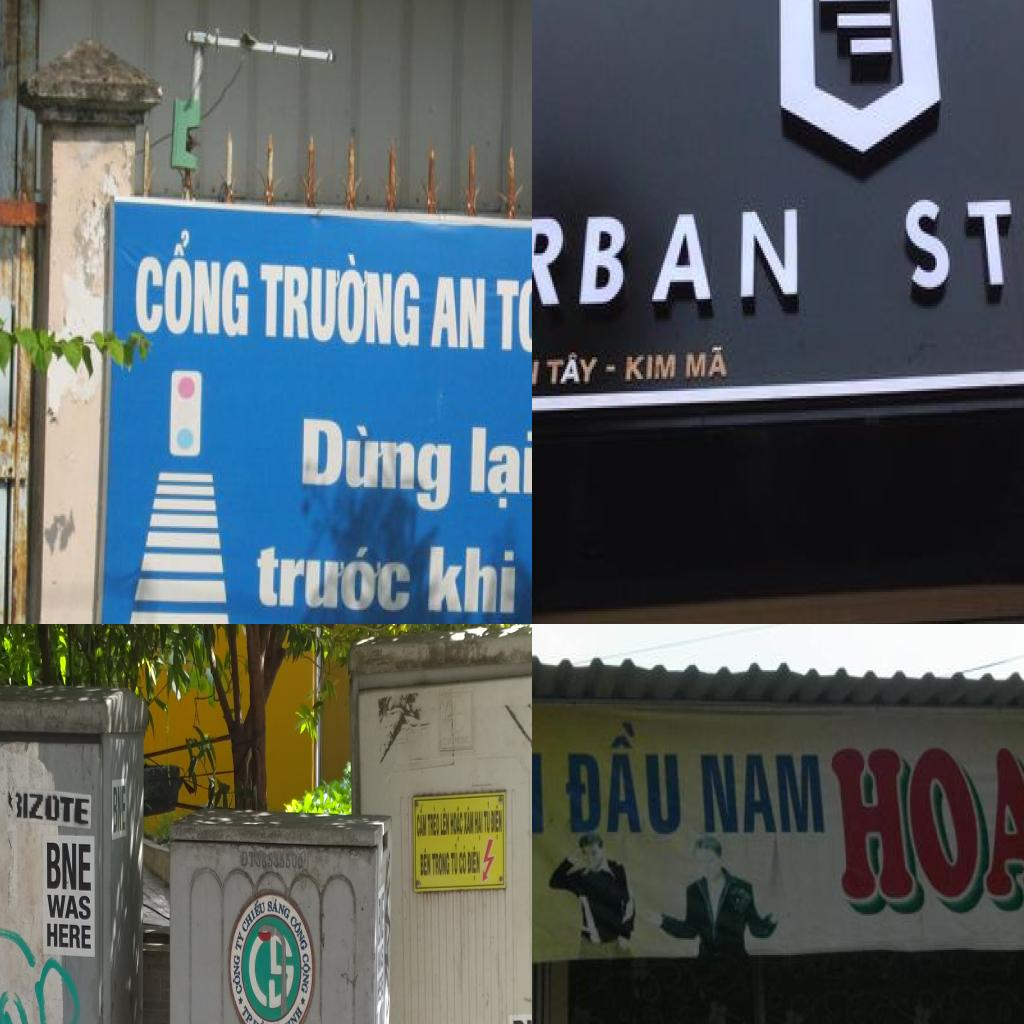text: (532, 202, 806, 335), (772, 0, 957, 192), (826, 745, 1024, 902), (292, 407, 455, 521), (256, 241, 423, 352), (899, 185, 1024, 315), (249, 531, 416, 622), (135, 219, 255, 345), (561, 721, 685, 837), (699, 752, 827, 835), (426, 528, 526, 622), (462, 413, 532, 514), (428, 264, 489, 356), (25, 955, 94, 1024), (492, 261, 532, 359), (543, 352, 625, 389), (22, 790, 91, 825), (44, 841, 92, 891), (683, 343, 735, 381), (625, 352, 679, 386), (43, 892, 93, 918), (46, 921, 95, 947), (256, 850, 306, 874), (238, 896, 266, 936), (288, 910, 311, 954), (112, 783, 129, 835), (268, 894, 294, 923), (467, 843, 483, 882), (492, 804, 506, 848), (282, 999, 306, 1024), (232, 950, 245, 996), (299, 956, 311, 1002), (433, 850, 450, 879), (414, 804, 428, 837), (450, 808, 464, 839), (237, 1001, 255, 1024), (418, 848, 432, 876), (427, 806, 440, 836), (449, 842, 459, 876), (458, 842, 468, 876), (464, 806, 475, 836), (234, 925, 244, 956), (474, 808, 484, 839), (240, 852, 257, 869), (484, 803, 491, 836), (441, 808, 449, 836), (252, 1017, 267, 1024), (264, 1019, 281, 1024)
